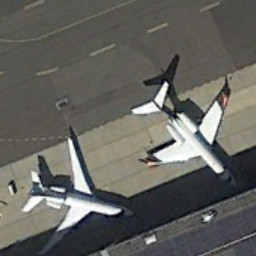Airplane: (12, 131, 141, 256), (128, 72, 245, 193)
